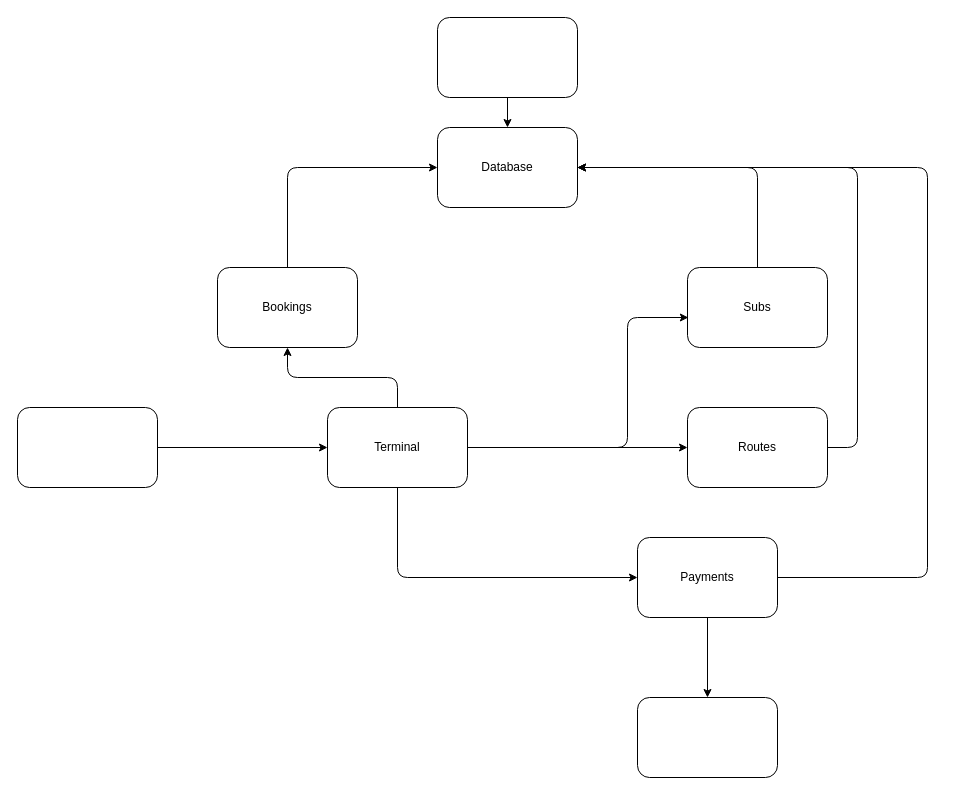
The diagram is 953 pixels wide and 795 high, and some of its shapes have lost their labels. Each missing label, with the centre of its shape:
Bank: pixel 707 737
Tycoon: pixel 507 57
user: pixel 87 447
